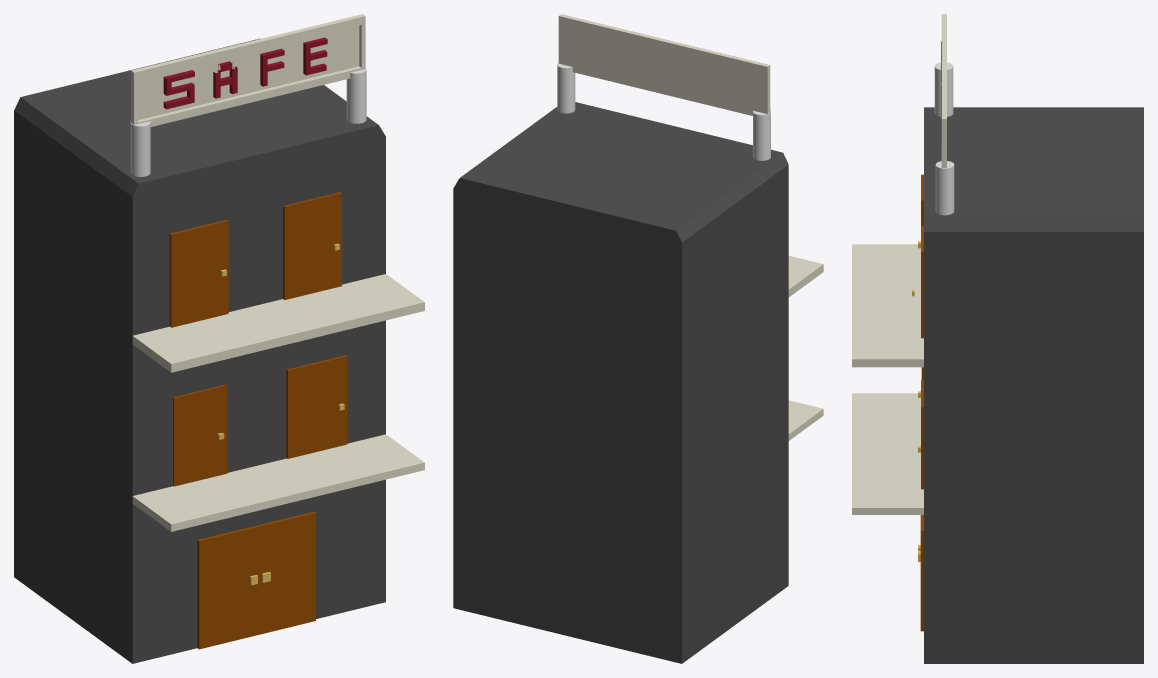
Rendered from safehouse.fbx.
The picture shows the model from 3 angles, left to right: view 1: azimuth 30°, elevation 25°; view 2: azimuth 150°, elevation 25°; view 3: azimuth 270°, elevation 25°; orthographic projection. The views are drawn at different scales.
Parts seen in each view (by area): view 1: Cube; view 2: Cube; view 3: Cube.
Boxes of the visible parts, bbox=[...] form: Cube: bbox=[14, 14, 424, 663]; Cube: bbox=[453, 14, 823, 663]; Cube: bbox=[852, 14, 1143, 663].
Size of the model in its own units: 2910 by 6380 by 3124.
